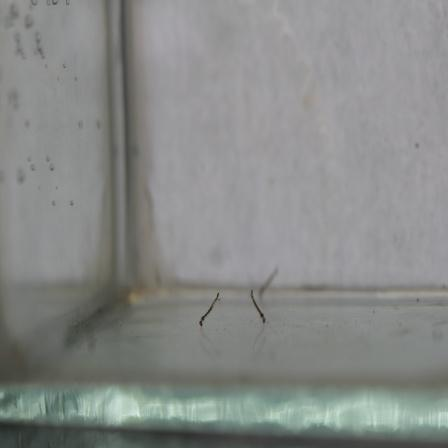Jentik-Nyamuk: (198, 291, 221, 328), (247, 289, 268, 325)
